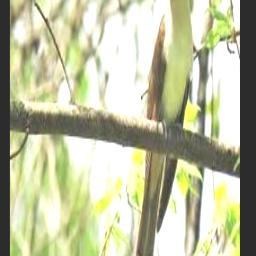Cuckoo: (131, 0, 193, 256)
